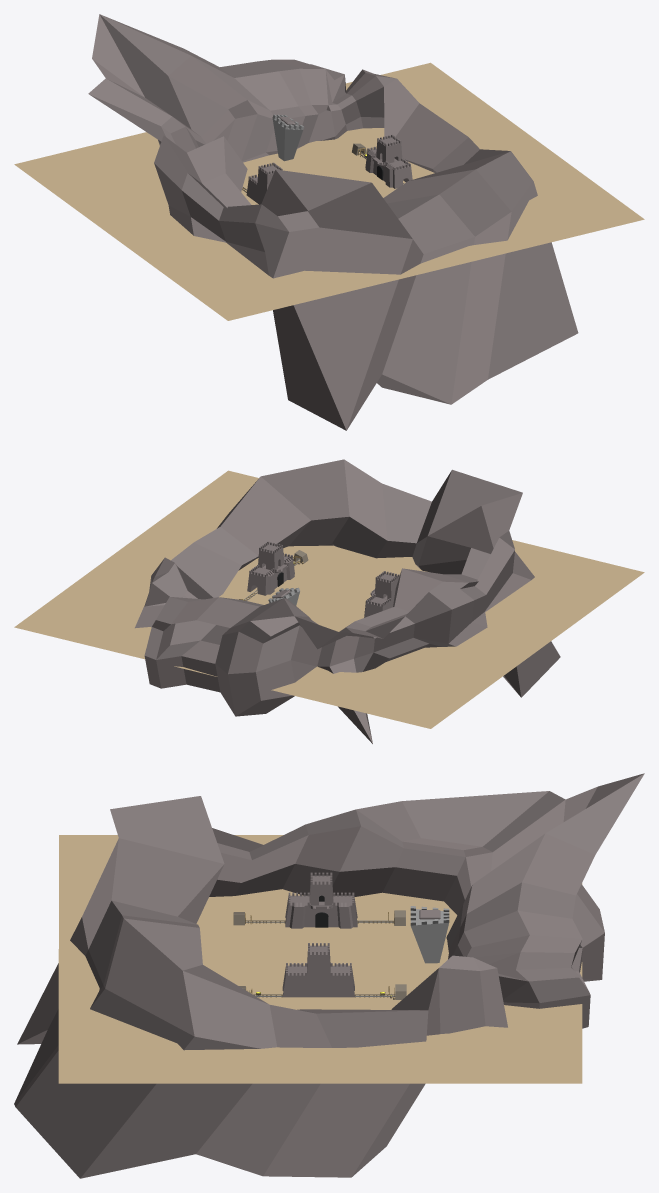
File: field.glb
3 renders of one model, top to bottom at view 1: azimuth 30°, elevation 25°; view 2: azimuth 150°, elevation 25°; view 3: azimuth 270°, elevation 25°, orthographic. The views are drawn at different scales.
Visible parts, largest first — view 1: rocks, pCube1_lambert4_0, OurCastle, Cube.004, EnemyCastle; view 2: rocks, pCube1_lambert4_0, OurCastle, EnemyCastle; view 3: rocks, pCube1_lambert4_0, OurCastle, EnemyCastle, Cube.004.
Part boxes in pixels (box(x1,y1,x2,y2)): rocks: box(88, 14, 578, 430); pCube1_lambert4_0: box(14, 62, 644, 320); OurCastle: box(365, 134, 412, 188); Cube.004: box(272, 114, 304, 161); EnemyCastle: box(246, 162, 282, 204); rocks: box(135, 459, 560, 743); pCube1_lambert4_0: box(14, 470, 644, 728); OurCastle: box(247, 541, 294, 595); EnemyCastle: box(364, 571, 399, 617); rocks: box(14, 773, 644, 1178); pCube1_lambert4_0: box(58, 835, 582, 1083); OurCastle: box(282, 943, 354, 997); EnemyCastle: box(285, 872, 357, 928); Cube.004: box(410, 906, 449, 963).
Bounding box in the file's own units: 236 × 124 × 253.
